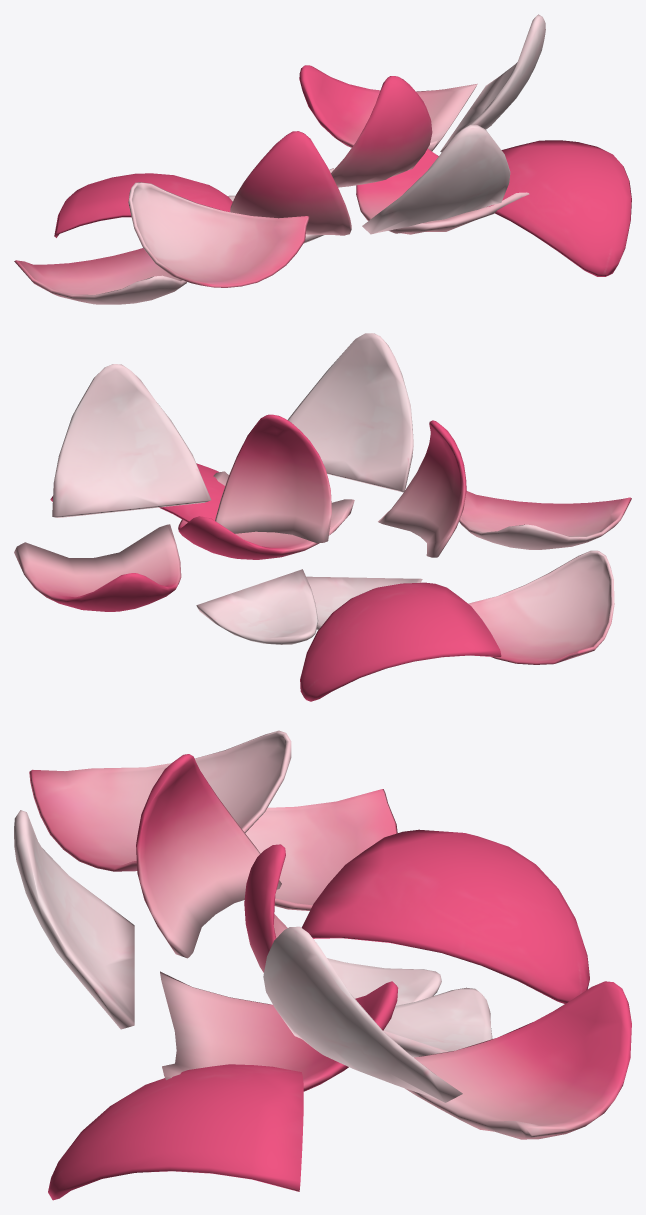
File: FlorDeLotus_cortada.fbx
3 views of the same model, one above another, from view 1: azimuth 30°, elevation 25°; view 2: azimuth 150°, elevation 25°; view 3: azimuth 270°, elevation 25° (orthographic). The views are drawn at different scales.
Parts seen in each view (by area): view 1: Lotus_cortada; view 2: Lotus_cortada; view 3: Lotus_cortada.
Boxes of the visible parts, <box> form: Lotus_cortada: <box>14,14,631,304</box>; Lotus_cortada: <box>14,333,631,701</box>; Lotus_cortada: <box>14,730,631,1200</box>.
Bounding box in the file's own units: 202 × 67.49 × 134.
